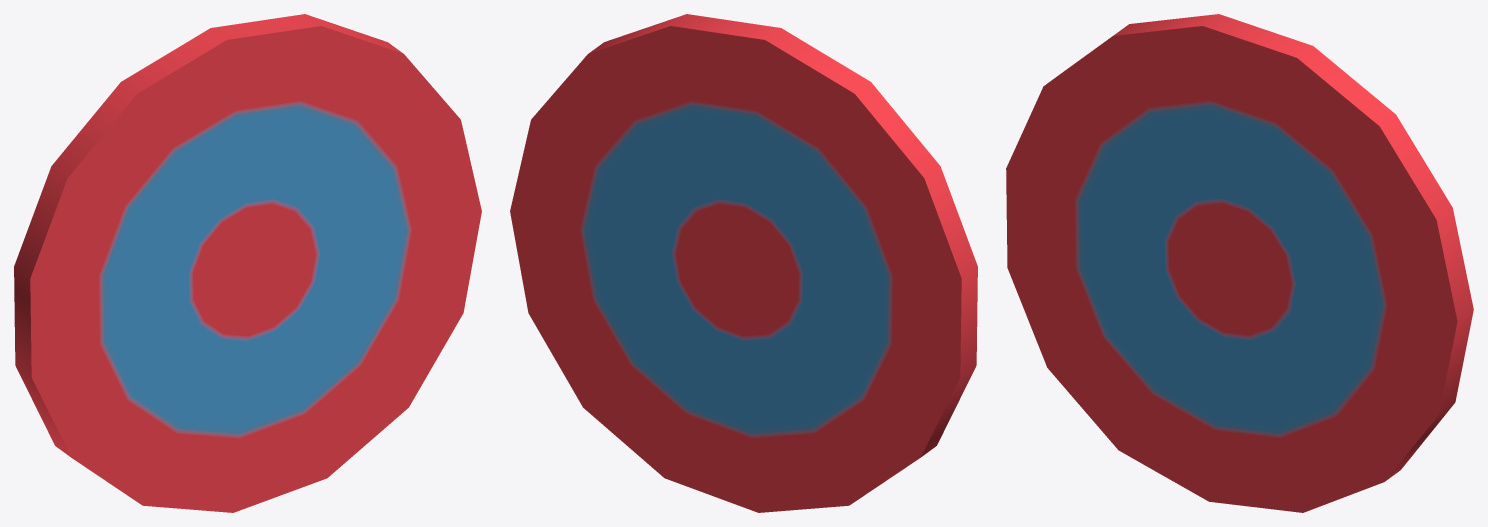
Rendered from M_eyes_02.fbx.
3 views of the same model, side by side, from view 1: azimuth 30°, elevation 25°; view 2: azimuth 150°, elevation 25°; view 3: azimuth 330°, elevation 25° (orthographic).
Visible parts, largest first — view 1: Cube.015; view 2: Cube.015; view 3: Cube.015.
Boxes of the visible parts, x1,y1,x2,y2 form: Cube.015: [14, 14, 481, 512]; Cube.015: [510, 14, 977, 512]; Cube.015: [1006, 14, 1473, 512].
Size of the model in its own units: 284 by 285 by 17.73.
